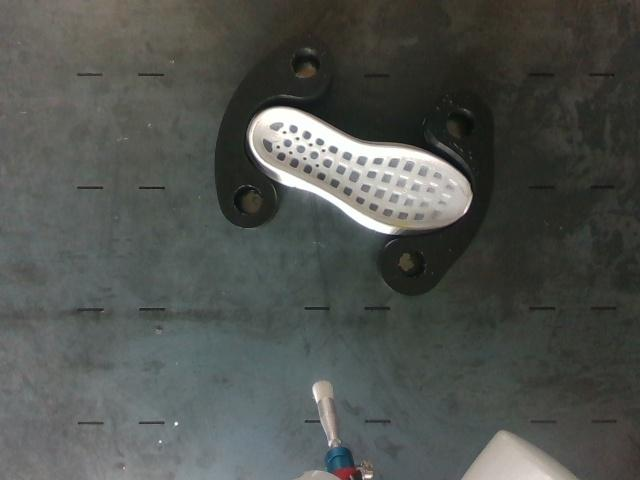shoes: (253, 107, 470, 227)
